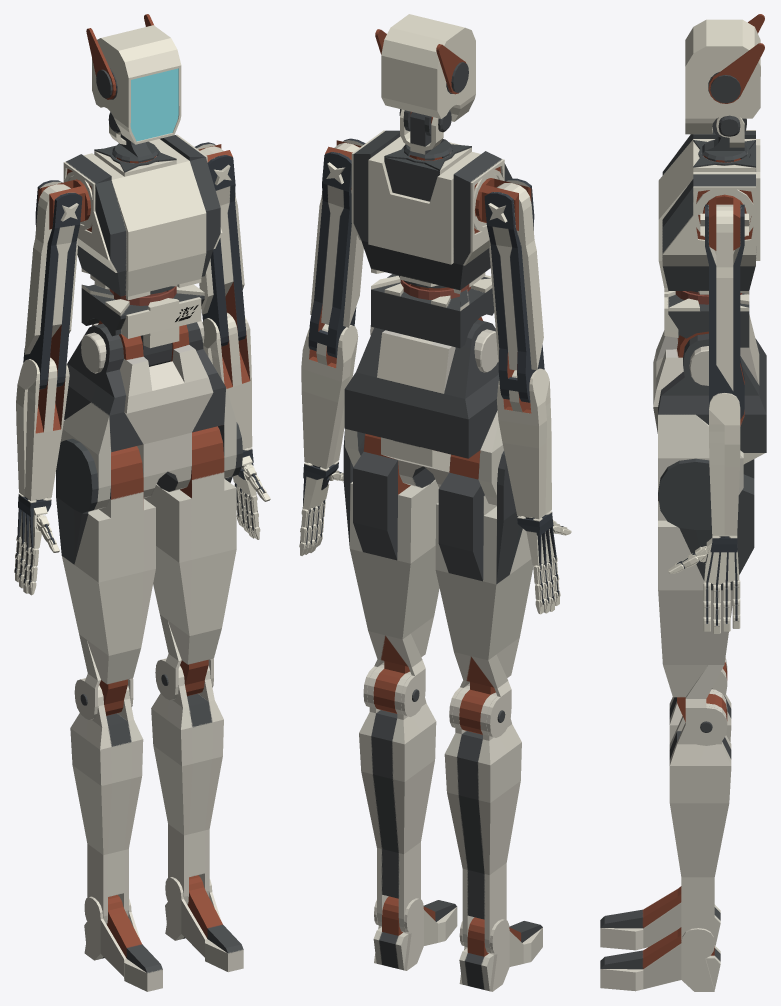
Rendered from ASZ.fbx.
3 renders of one model, left to right at view 1: azimuth 30°, elevation 25°; view 2: azimuth 150°, elevation 25°; view 3: azimuth 270°, elevation 25°, orthographic. The views are drawn at different scales.
Visible parts, largest first — view 1: Q043, Q055, Q023, Q028, Q027, Q054, Q045, 对象021, Q046, Q001, Q024, Q031 (+7 smaller); view 2: Q043, Q055, Q028, Q023, Q054, Q027, Q045, Q001, Q024, 对象021, Q046, Q002 (+7 smaller); view 3: Q028, Q023, Q043, Q027, Q001, Q024, Q031, Q002, Q056, 对象021, Q012, Q009 (+4 smaller).
Boxes of the visible parts, x1=… form: Q043: x1=60, y1=320, x2=236, y2=511; Q055: x1=56, y1=438, x2=155, y2=719; Q023: x1=63, y1=134, x2=222, y2=300; Q028: x1=144, y1=422, x2=242, y2=700; Q027: x1=151, y1=658, x2=223, y2=904; Q054: x1=70, y1=678, x2=143, y2=924; Q045: x1=23, y1=180, x2=82, y2=389; 对象021: x1=81, y1=281, x2=204, y2=366; Q046: x1=16, y1=357, x2=69, y2=500; Q001: x1=195, y1=142, x2=245, y2=346; Q024: x1=92, y1=25, x2=181, y2=144; Q031: x1=165, y1=875, x2=243, y2=972; Q043: x1=344, y1=317, x2=503, y2=506; Q055: x1=435, y1=450, x2=533, y2=737; Q028: x1=343, y1=431, x2=439, y2=716; Q023: x1=351, y1=130, x2=512, y2=293; Q054: x1=444, y1=686, x2=521, y2=954; Q027: x1=359, y1=665, x2=436, y2=933; Q045: x1=484, y1=178, x2=544, y2=402; Q001: x1=308, y1=138, x2=365, y2=357; Q024: x1=381, y1=14, x2=475, y2=136; 对象021: x1=371, y1=274, x2=494, y2=348; Q046: x1=497, y1=368, x2=551, y2=519; Q002: x1=301, y1=324, x2=358, y2=469; Q028: x1=658, y1=458, x2=754, y2=745; Q023: x1=658, y1=130, x2=760, y2=295; Q043: x1=653, y1=314, x2=766, y2=494; Q027: x1=669, y1=691, x2=731, y2=941; Q001: x1=700, y1=204, x2=748, y2=419; Q024: x1=685, y1=19, x2=760, y2=139; Q031: x1=600, y1=927, x2=720, y2=991; Q002: x1=709, y1=393, x2=744, y2=536; Q056: x1=600, y1=886, x2=720, y2=950; 对象021: x1=664, y1=291, x2=749, y2=347; Q012: x1=708, y1=14, x2=764, y2=103; Q009: x1=704, y1=536, x2=739, y2=590.
Bounding box in the file's own units: 20.34 × 76.14 × 12.29.
5 materials, 4 textured.
